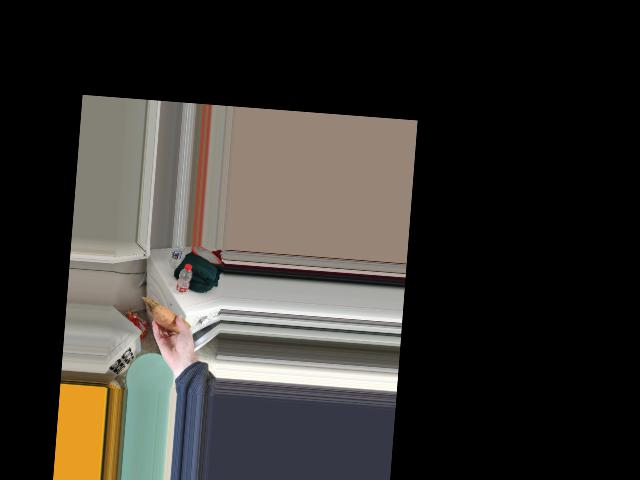sweet_potato: (152, 304, 187, 338)
